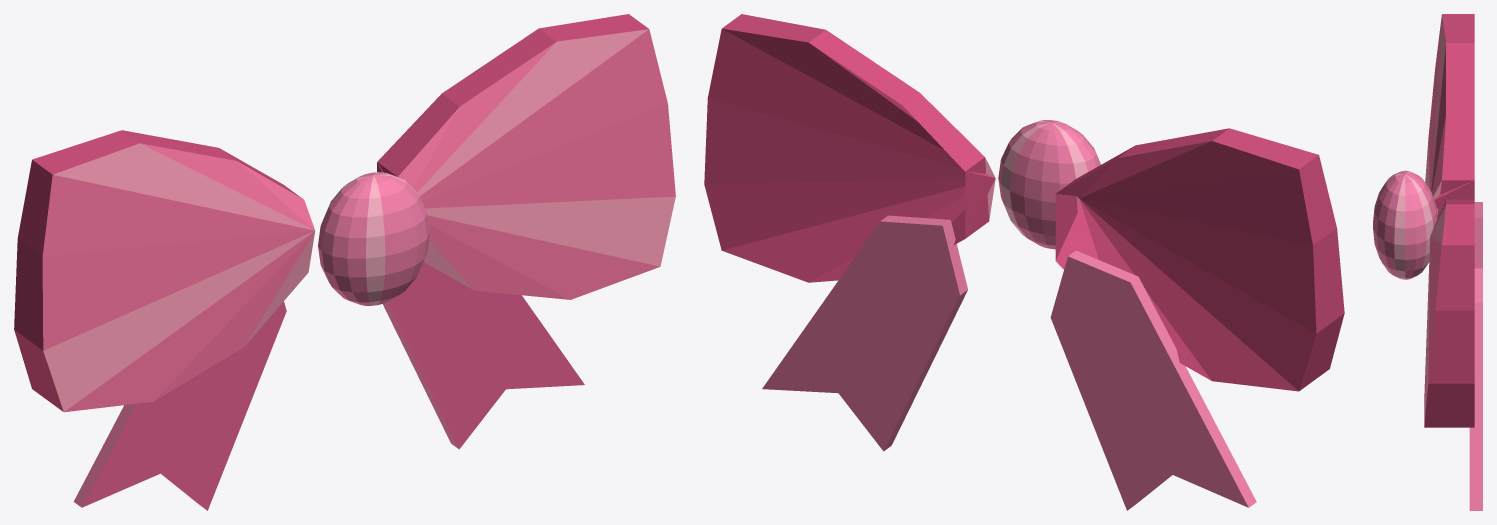
The model's file is mono_perrito.obj.
The picture shows the model from 3 angles, left to right: view 1: azimuth 30°, elevation 25°; view 2: azimuth 150°, elevation 25°; view 3: azimuth 270°, elevation 25°; orthographic projection. The views are drawn at different scales.
Parts seen in each view (by area): view 1: mono_perrito; view 2: mono_perrito; view 3: mono_perrito.
Boxes of the visible parts, x1=… form: mono_perrito: x1=14, y1=14, x2=675, y2=510; mono_perrito: x1=704, y1=14, x2=1344, y2=510; mono_perrito: x1=1373, y1=14, x2=1482, y2=510.
Size of the model in its own units: 1.76 by 1.06 by 0.3335.
1 material, 1 textured.
